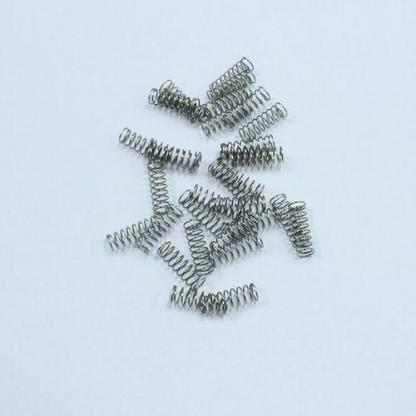FOD: (117, 124, 202, 174), (200, 84, 273, 140), (104, 207, 172, 251), (158, 237, 206, 290), (178, 188, 226, 240), (135, 208, 184, 257), (237, 99, 290, 142), (201, 278, 261, 314), (167, 285, 231, 316), (146, 146, 173, 216), (267, 191, 300, 248), (289, 198, 316, 259)
